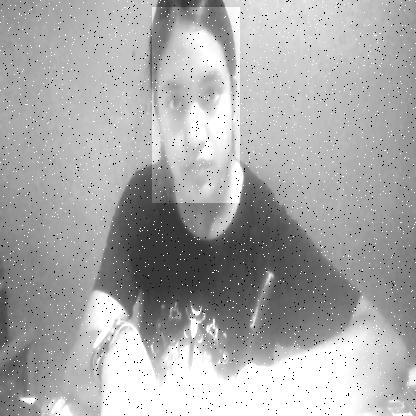Normal: (152, 7, 240, 203)
